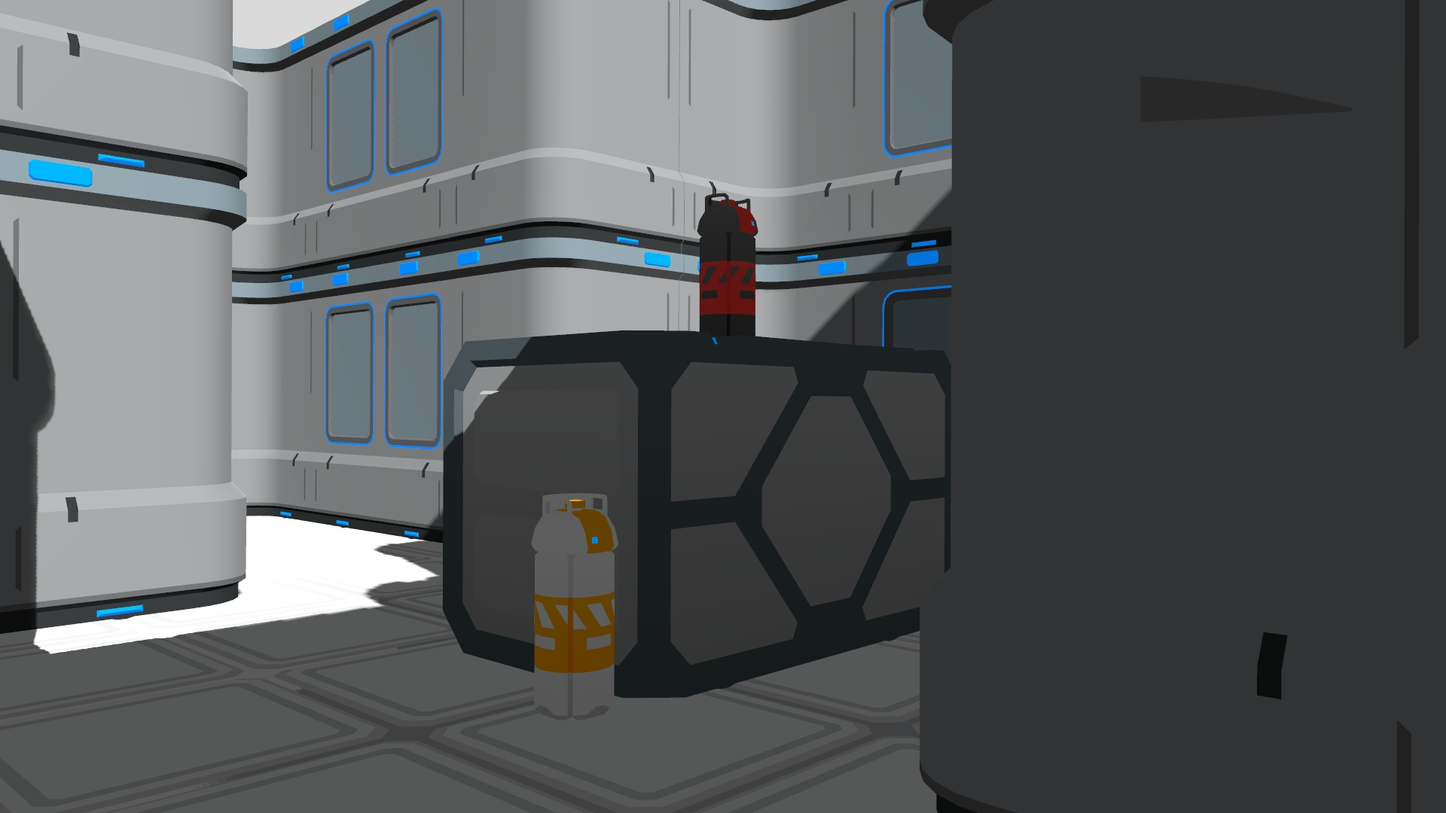red_barrel: (695, 175, 760, 341)
yellow_barrel: (530, 488, 622, 725)
